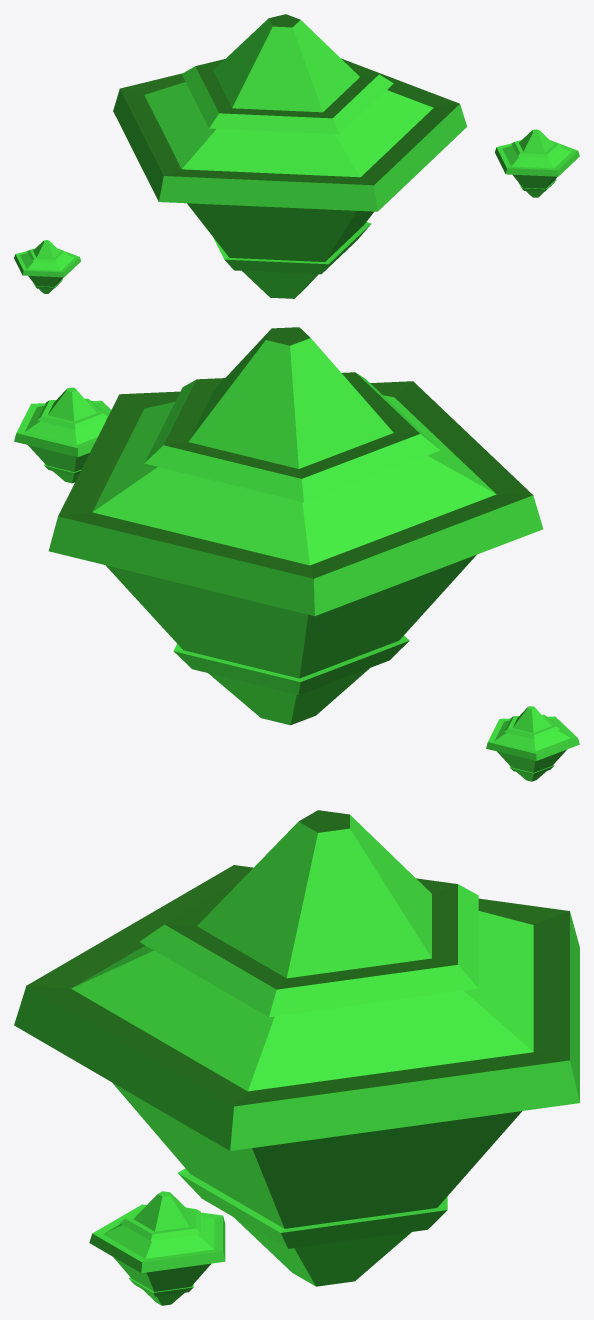
Rendered from BambooSeeds.fbx.
3 renders of one model, top to bottom at view 1: azimuth 30°, elevation 25°; view 2: azimuth 150°, elevation 25°; view 3: azimuth 270°, elevation 25°, orthographic. The views are drawn at different scales.
Visible parts, largest first — view 1: Seed; view 2: Seed; view 3: Seed.
Boxes of the visible parts, x1=… form: Seed: x1=14, y1=14, x2=579, y2=298; Seed: x1=14, y1=327, x2=579, y2=781; Seed: x1=14, y1=810, x2=579, y2=1305.
Bounding box in the file's own units: 8.54 × 4.63 × 5.26.
